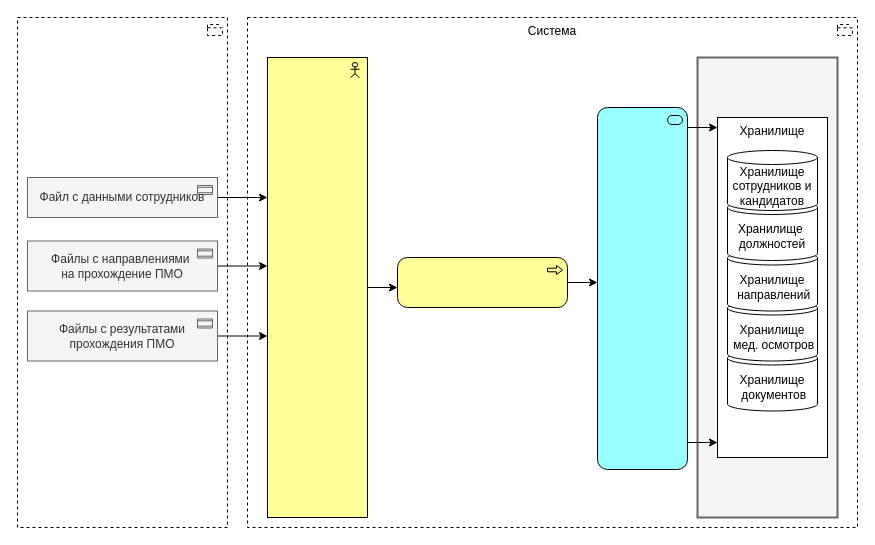
This 875x545 diagram has some shape labels left out. The shapes that lost their labels are listed below. From the top down, each one's box as (x1, y1, x2, y2) in pixels, then its label:
(16, 16, 228, 528): Внешние файлы
(266, 56, 368, 518): Администратор
(396, 256, 568, 308): 1. Загрузка данных в регистры
(596, 106, 688, 470): Приложение Загрузчика данных
(696, 56, 838, 518): Подсистема мед. данных
